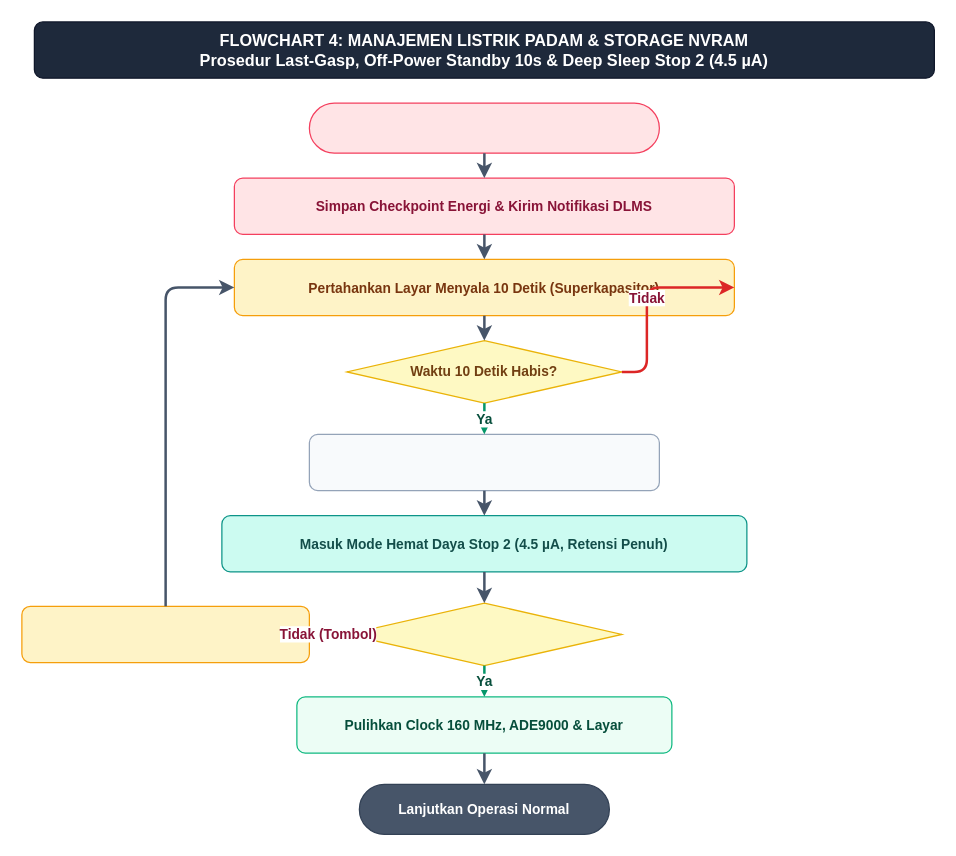
Some shapes in this 956 by 856 pixel diagram are drawn without their labels. Here are the shapes that lost their labels. From the top down, the box of each, then its label:
(308, 102, 659, 153): Interupsi Listrik Padam (AC_FAIL_DET)
(308, 433, 659, 491): Padamkan Layar & Matikan Rail Non-Esensial
(21, 605, 309, 662): Nyalakan Layar 10 Detik Lalu Tidur Kembali
(346, 602, 622, 666): Apakah Listrik PLN Pulih?
